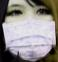with_mask: (1, 1, 58, 62)
